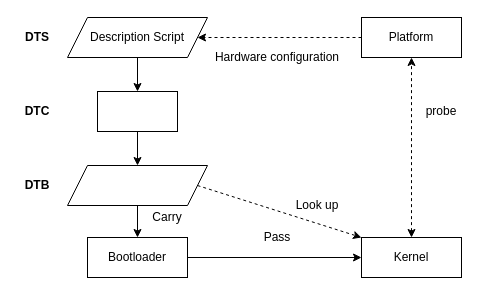
Some shapes in this 479 by 295 pixel diagram are drawn without their labels. Here are the shapes that lost their labels. From the top down, the centre of each, then its label:
the point at 137,111: Compiler
the point at 137,185: Binary Data
